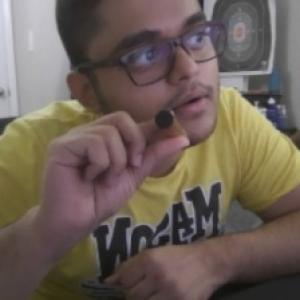Golden-E-Ciggirate: (151, 107, 188, 146)
